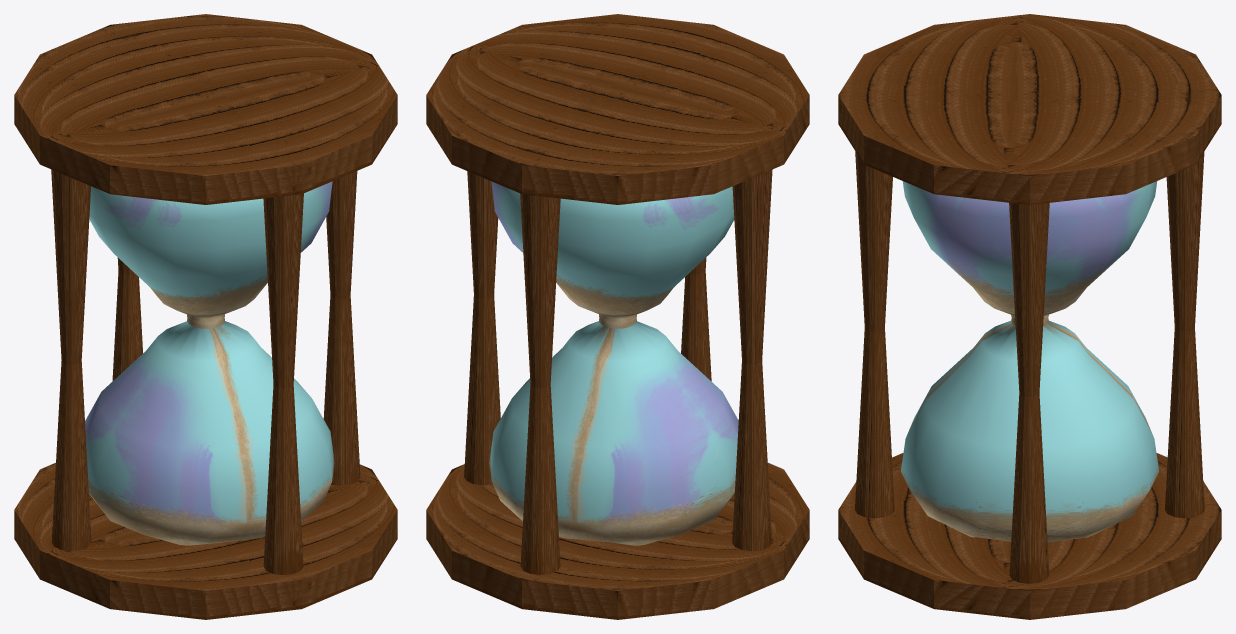
File: RelojArena.fbx
3 views of the same model, side by side, from view 1: azimuth 30°, elevation 25°; view 2: azimuth 150°, elevation 25°; view 3: azimuth 270°, elevation 25° (orthographic).
Parts seen in each view (by area): view 1: Reloj Arena.005, Reloj Arena; view 2: Reloj Arena.005, Reloj Arena; view 3: Reloj Arena.005, Reloj Arena.
Part boxes in pixels (box(x1,y1,x2,y2)): Reloj Arena.005: box(14, 14, 397, 619); Reloj Arena: box(85, 181, 334, 545); Reloj Arena.005: box(426, 14, 809, 619); Reloj Arena: box(489, 181, 738, 545); Reloj Arena.005: box(838, 14, 1221, 619); Reloj Arena: box(901, 181, 1158, 541).
Size of the model in its own units: 99.47 by 127 by 99.47.
